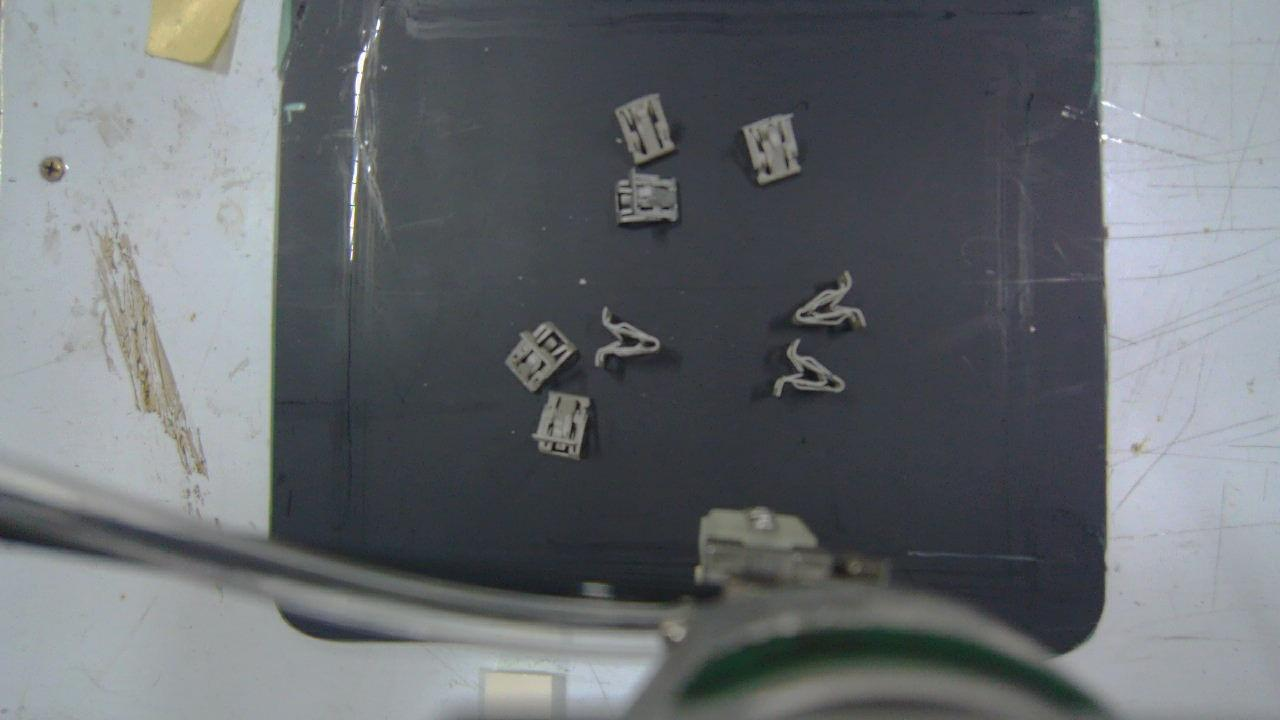ng: (505, 322, 576, 393), (613, 92, 678, 165), (744, 110, 803, 186), (773, 337, 845, 395), (793, 270, 866, 327), (596, 303, 660, 367), (534, 391, 590, 461), (614, 168, 678, 224)
